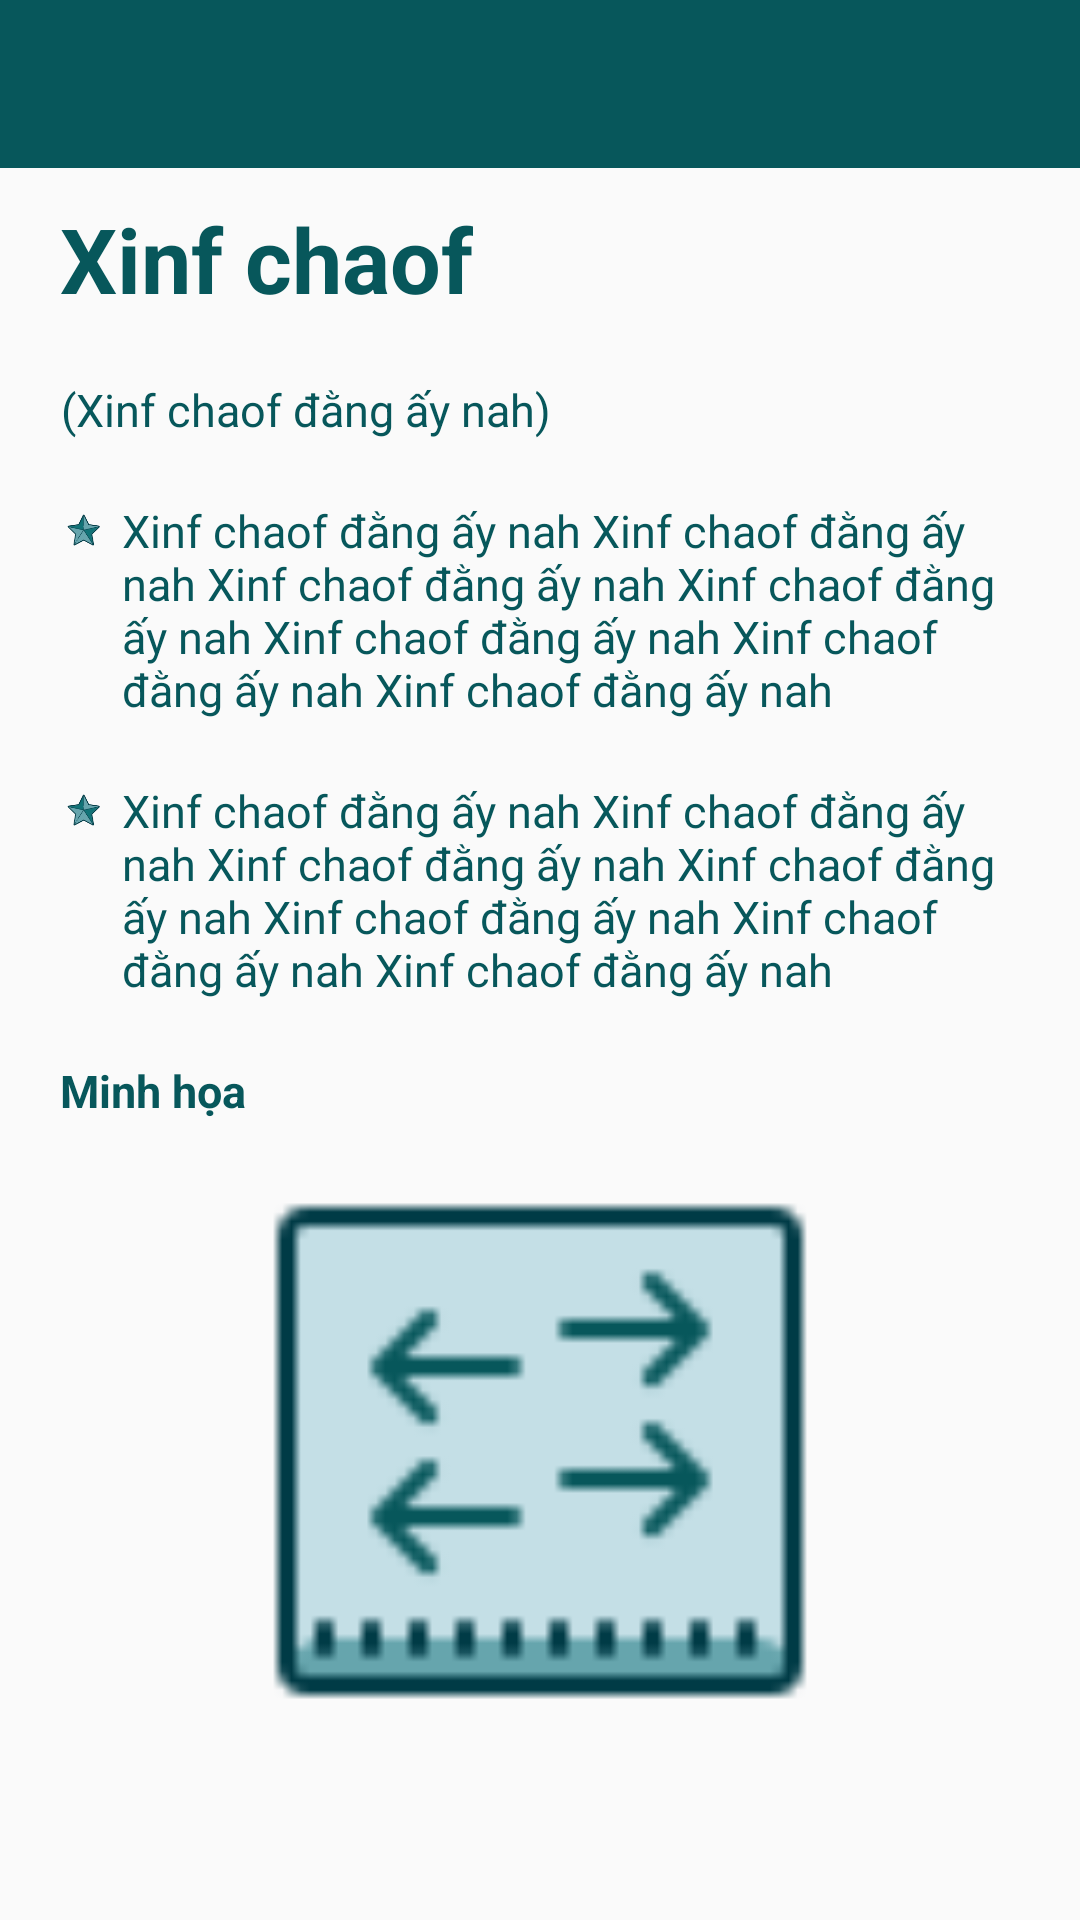

Screen size 1080*1920. Icon name, then its center in pixels as (x=x, y=y):
star: (x=83, y=530), (x=83, y=810)
